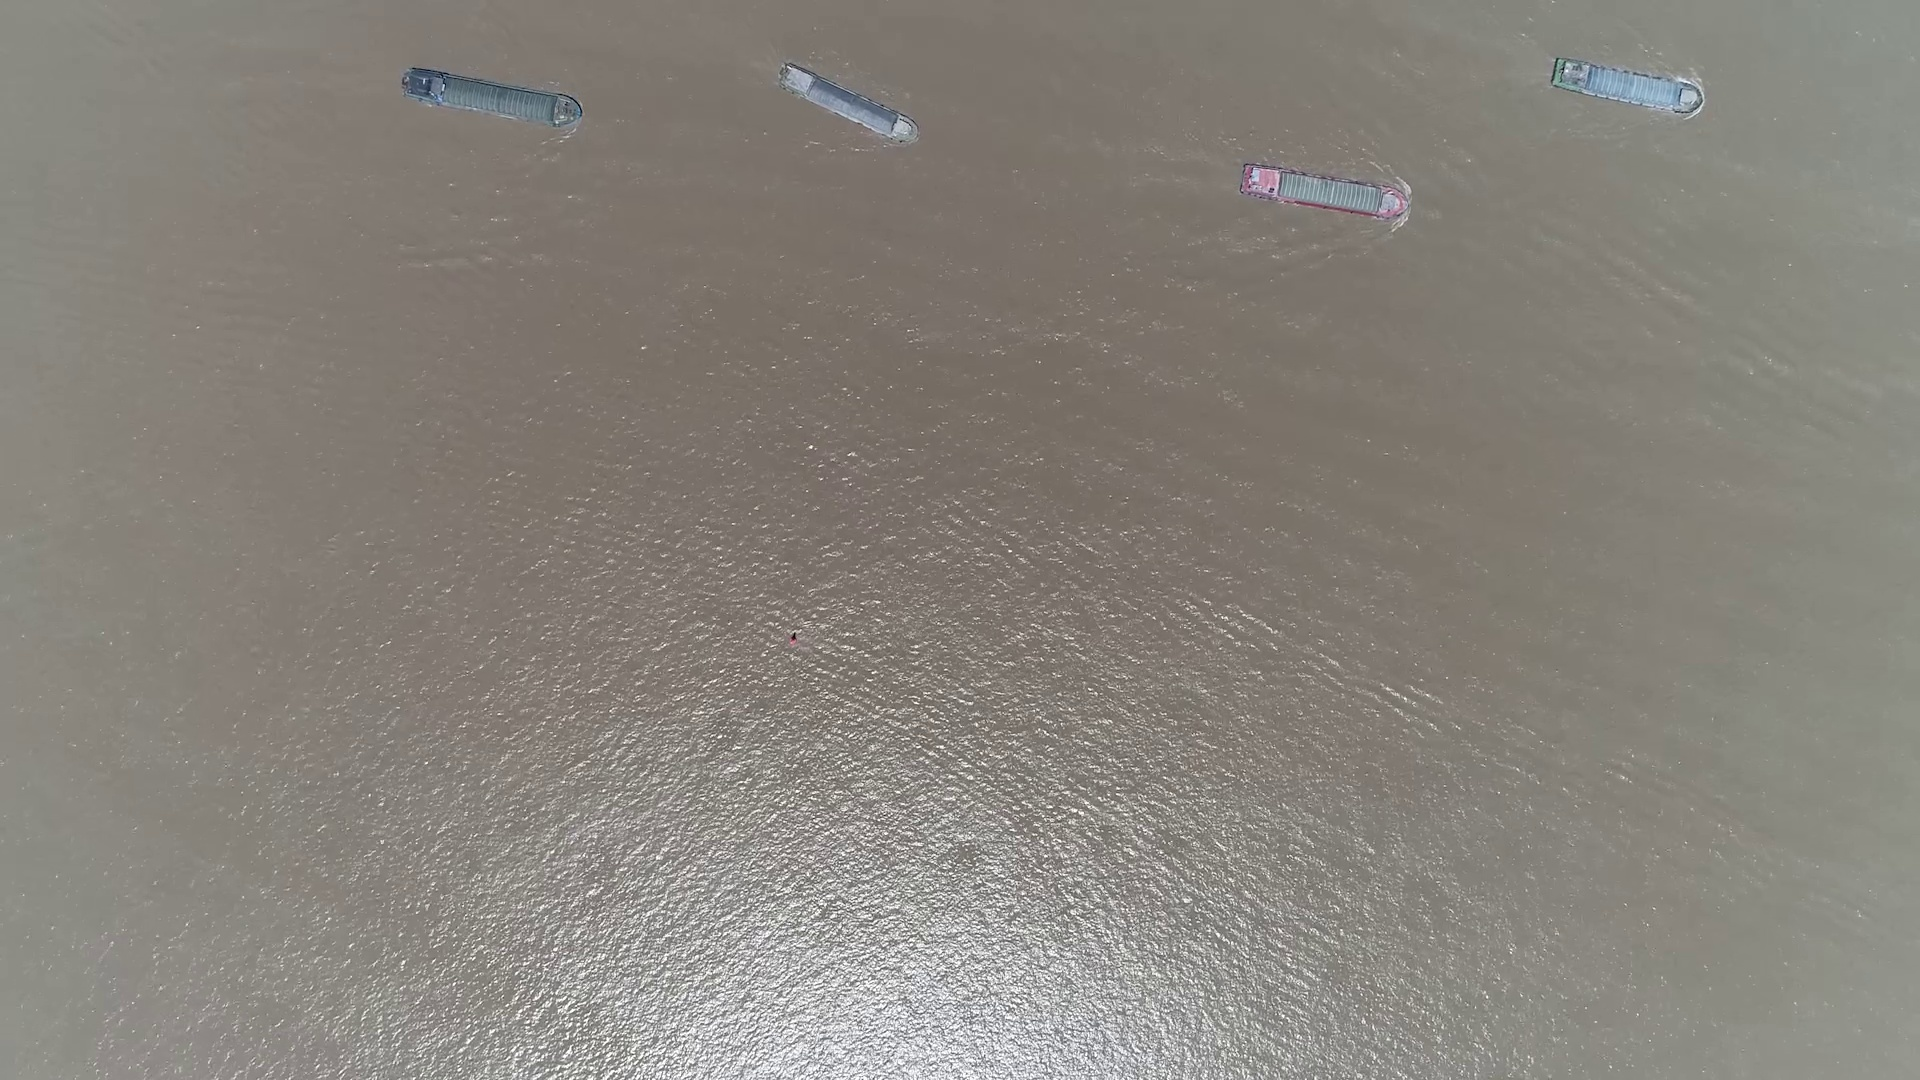ship: (400, 69, 583, 131), (778, 69, 916, 142), (1236, 166, 1410, 222), (1549, 61, 1701, 113)
